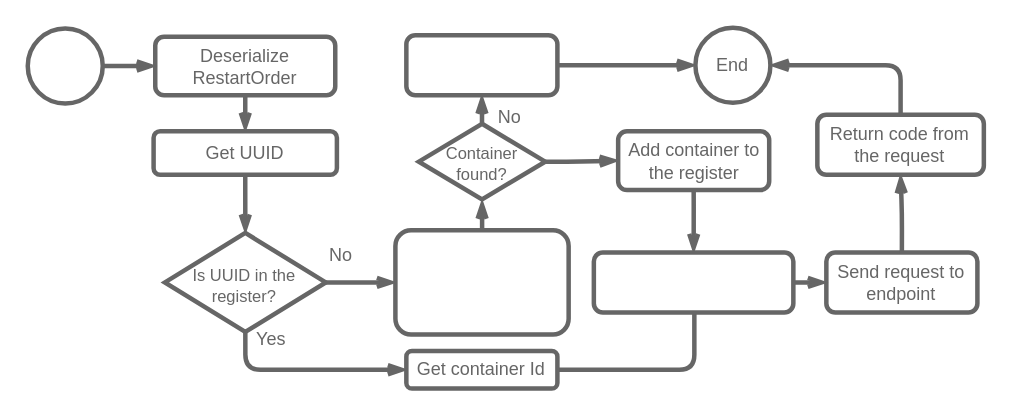
Image size: 1013x417. Some labels were removed from this diagram. The box of each missing label's shape, as (x1, y1, x2, y2) in pixels:
Build request from ReconfigureType info: (591, 249, 795, 314)
Return 404 Not Found: (403, 32, 559, 97)
Search for container in network using info from the QueryType: (392, 227, 570, 336)
Start: (25, 26, 104, 105)
